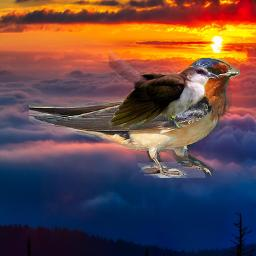Cuckoo: (109, 23, 220, 132)
Swallow: (29, 58, 240, 178)
